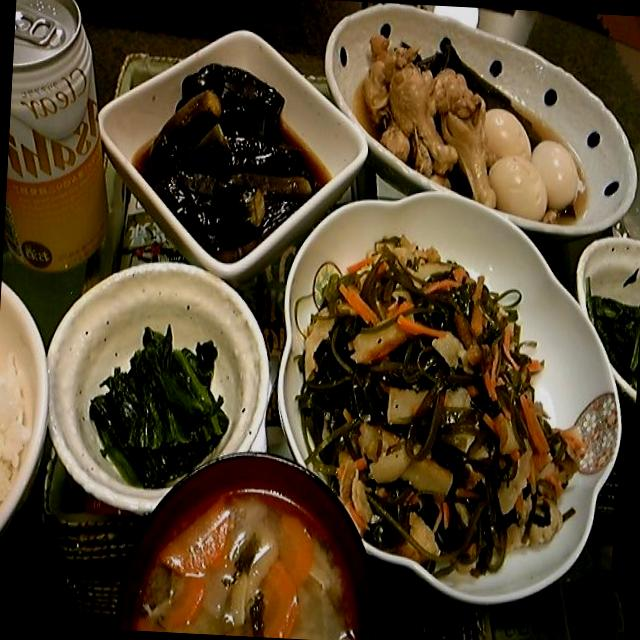Rice: (123, 271, 156, 414)
